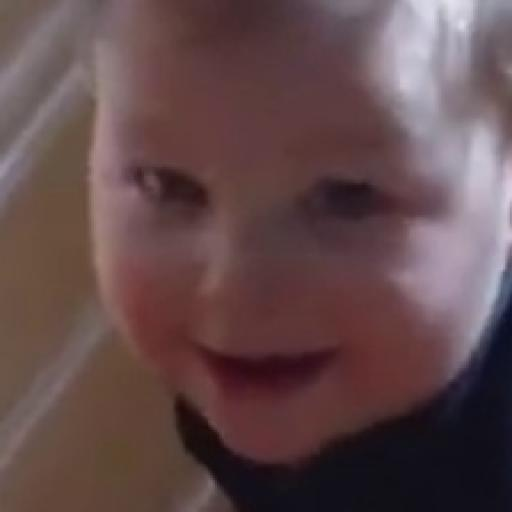Autism: (97, 10, 512, 472)
